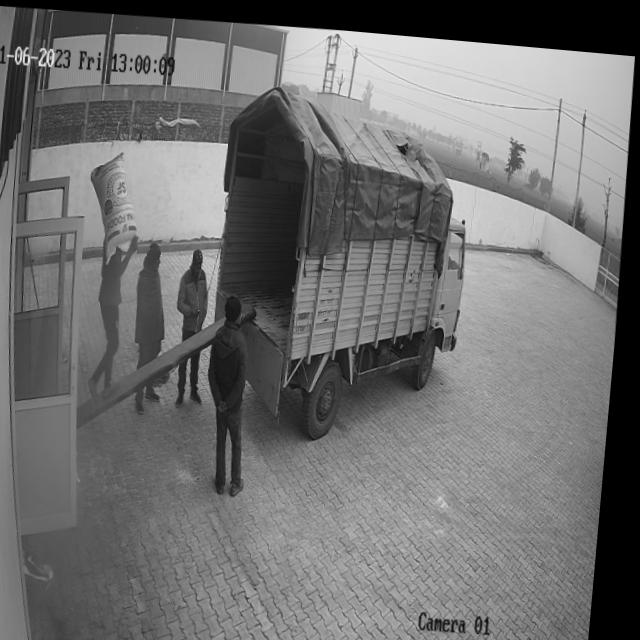sack: (87, 145, 147, 265)
